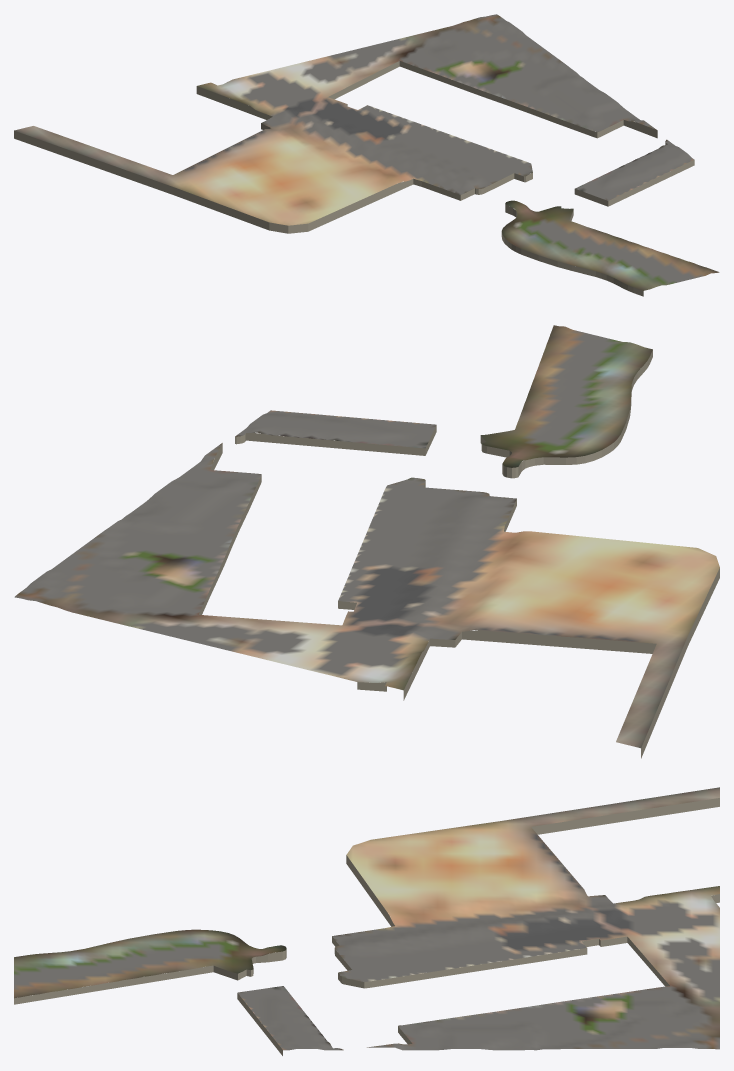
File: terrain.glb
The picture shows the model from 3 angles, top to bottom: view 1: azimuth 30°, elevation 25°; view 2: azimuth 150°, elevation 25°; view 3: azimuth 270°, elevation 25°; orthographic projection. The views are drawn at different scales.
Visible parts, largest first — view 1: T_W2_N1_terrain; view 2: T_W2_N1_terrain; view 3: T_W2_N1_terrain.
Boxes of the visible parts, bbox=[...] form: T_W2_N1_terrain: bbox=[14, 14, 719, 296]; T_W2_N1_terrain: bbox=[14, 325, 719, 758]; T_W2_N1_terrain: bbox=[14, 787, 719, 1055].
Size of the model in its own units: 436 by 7 by 500.
